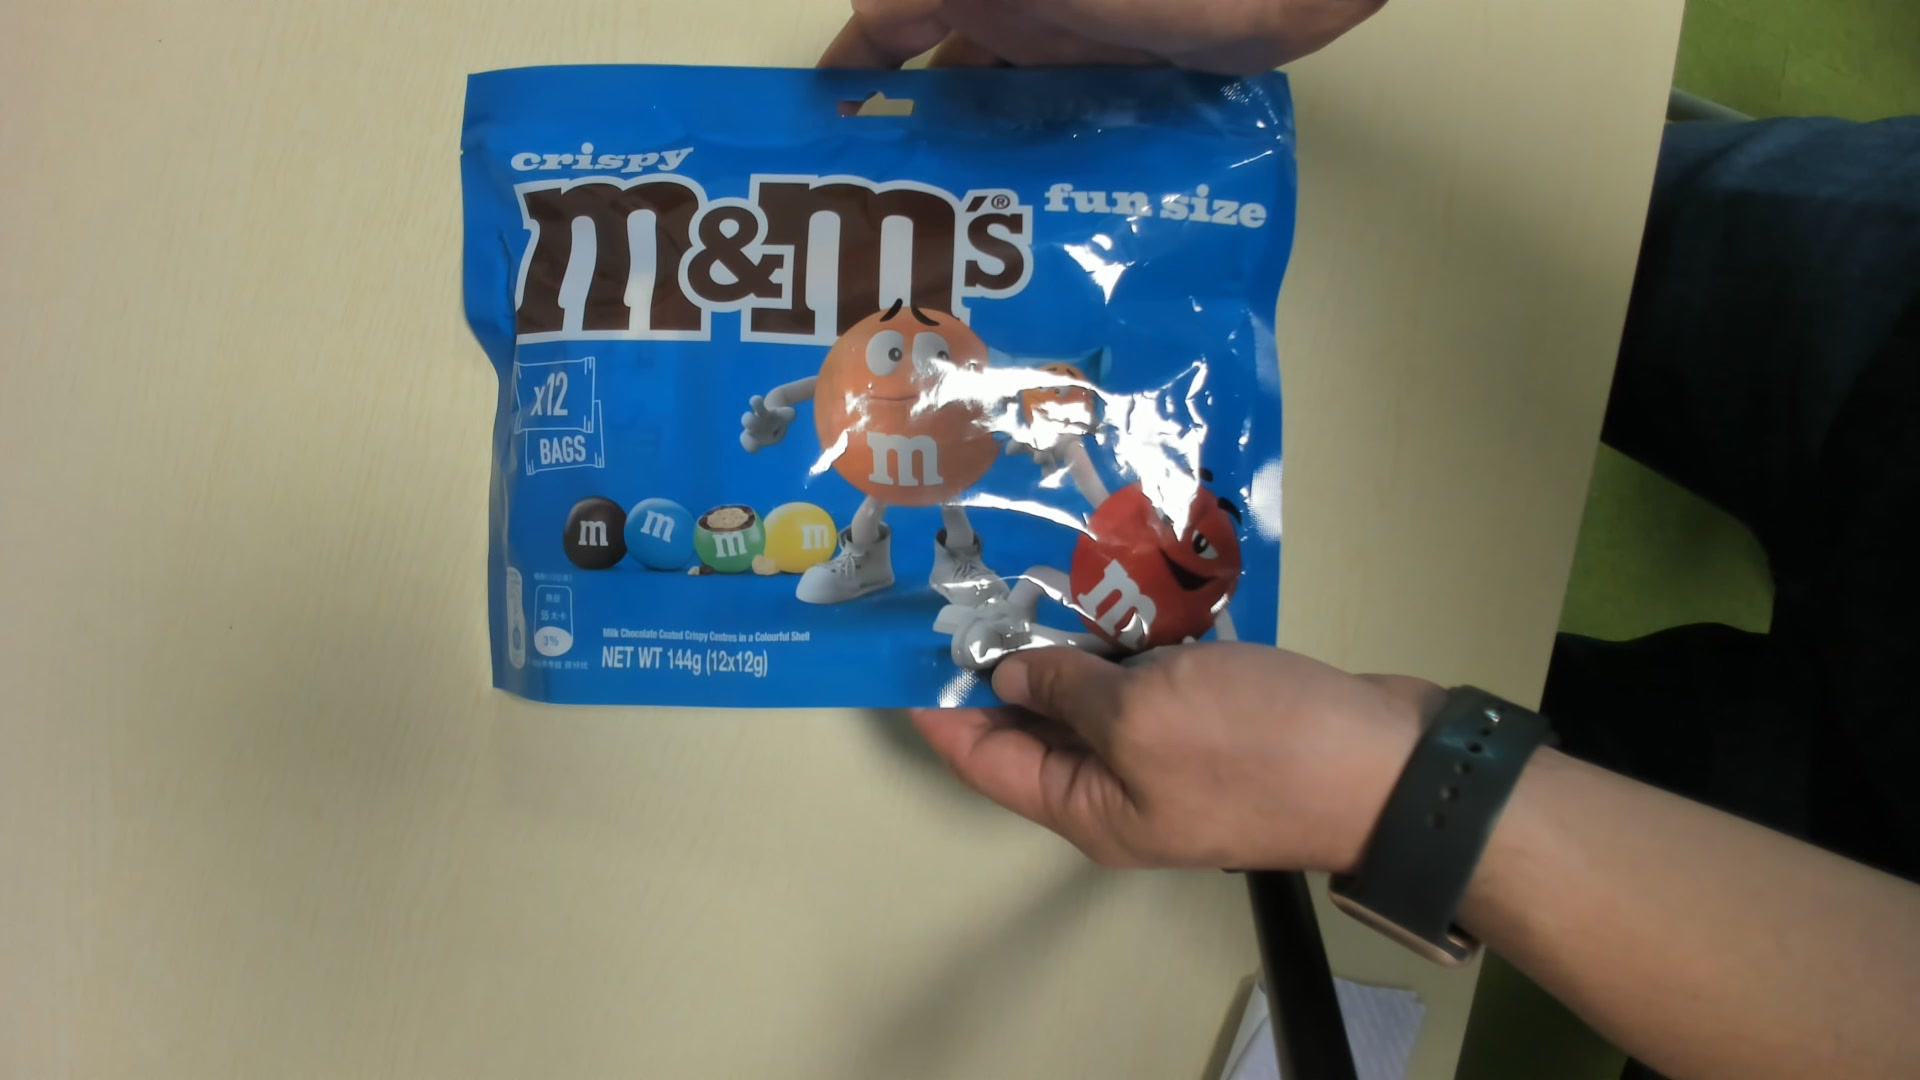SweetsChocolatesOthers_100-199g_Halal_Nonhealthy: (459, 69, 1286, 700)
